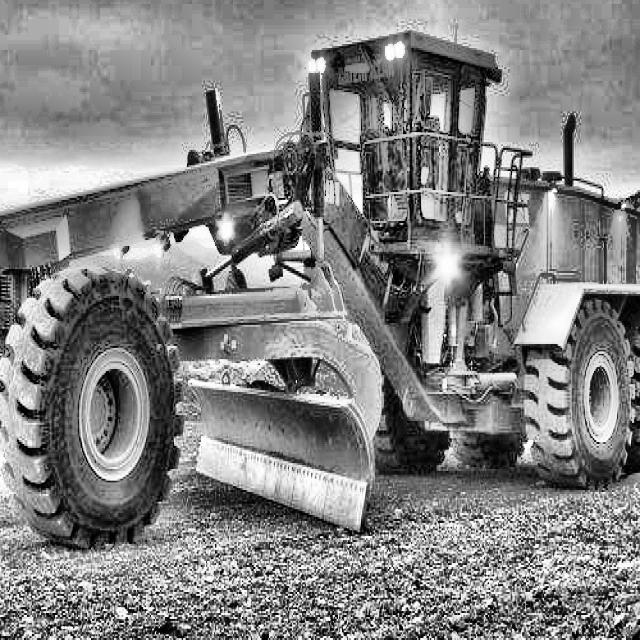buldozerpayloadergrader: (0, 14, 640, 554)
